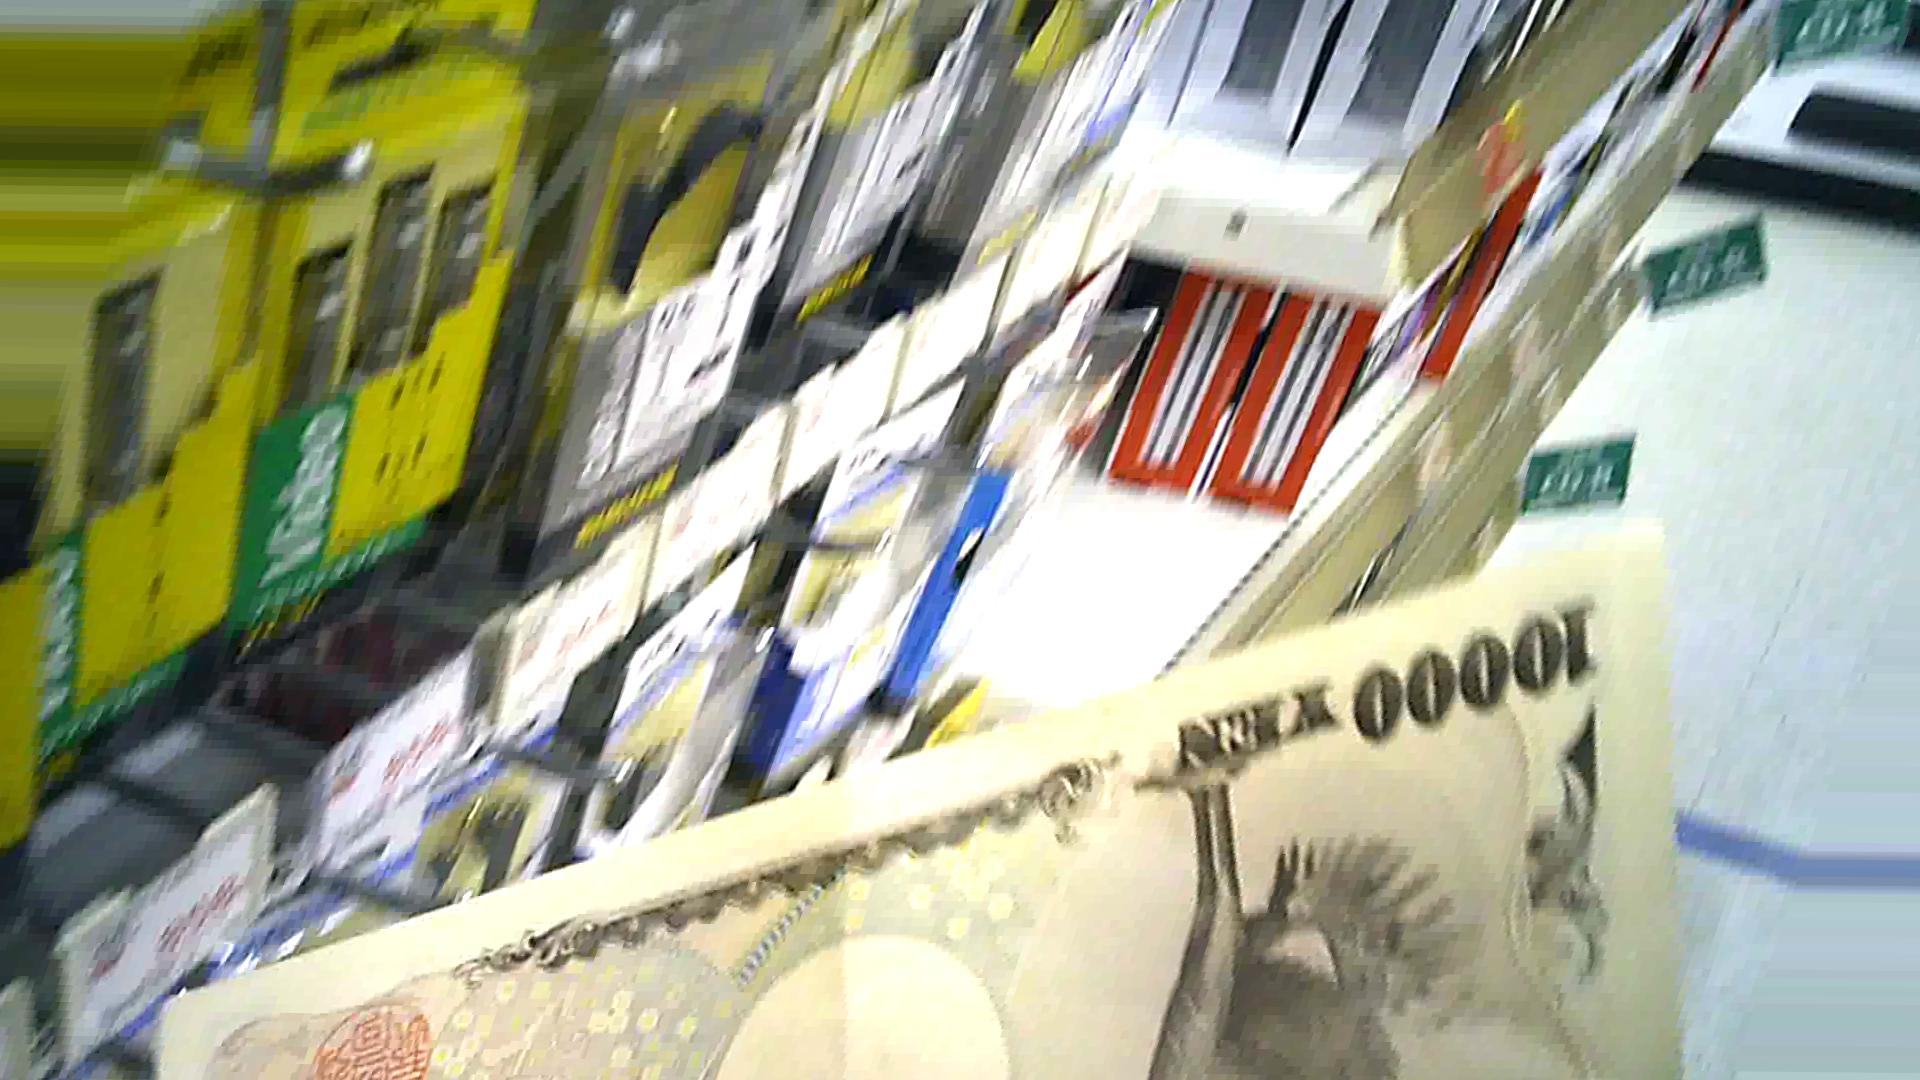10,000 Yen: (251, 512, 1705, 1068)
